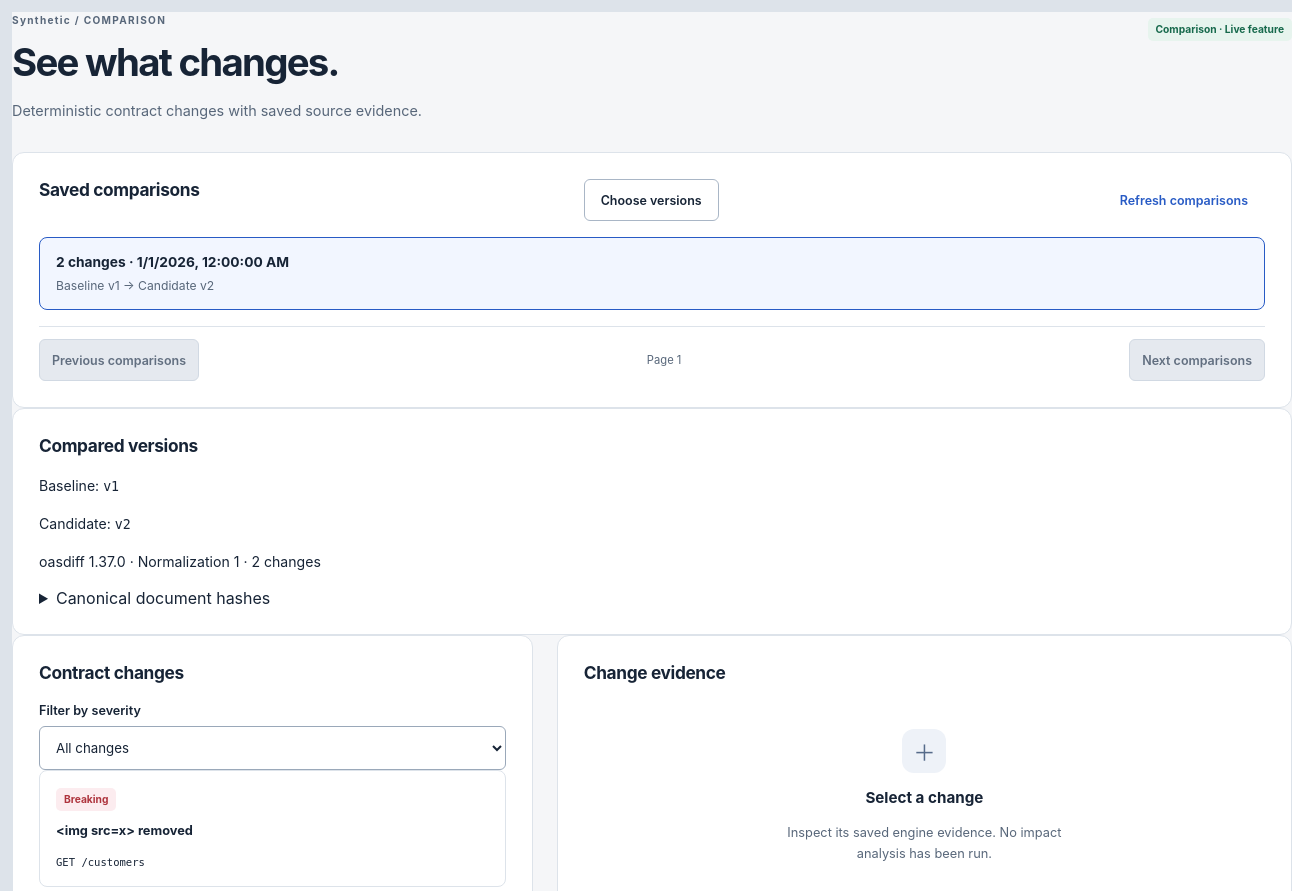
it: filters changes and fetches the selected stable ID with escaped evidence
This screenshot has width=1292, height=891.
Expected: the text "Baseline v1 → Candidate v2" is shown, [56,278,214,294]
Select "Breaking" in the dropdown labelled "Filter by severity" at (272, 748), box [39,726,506,770]
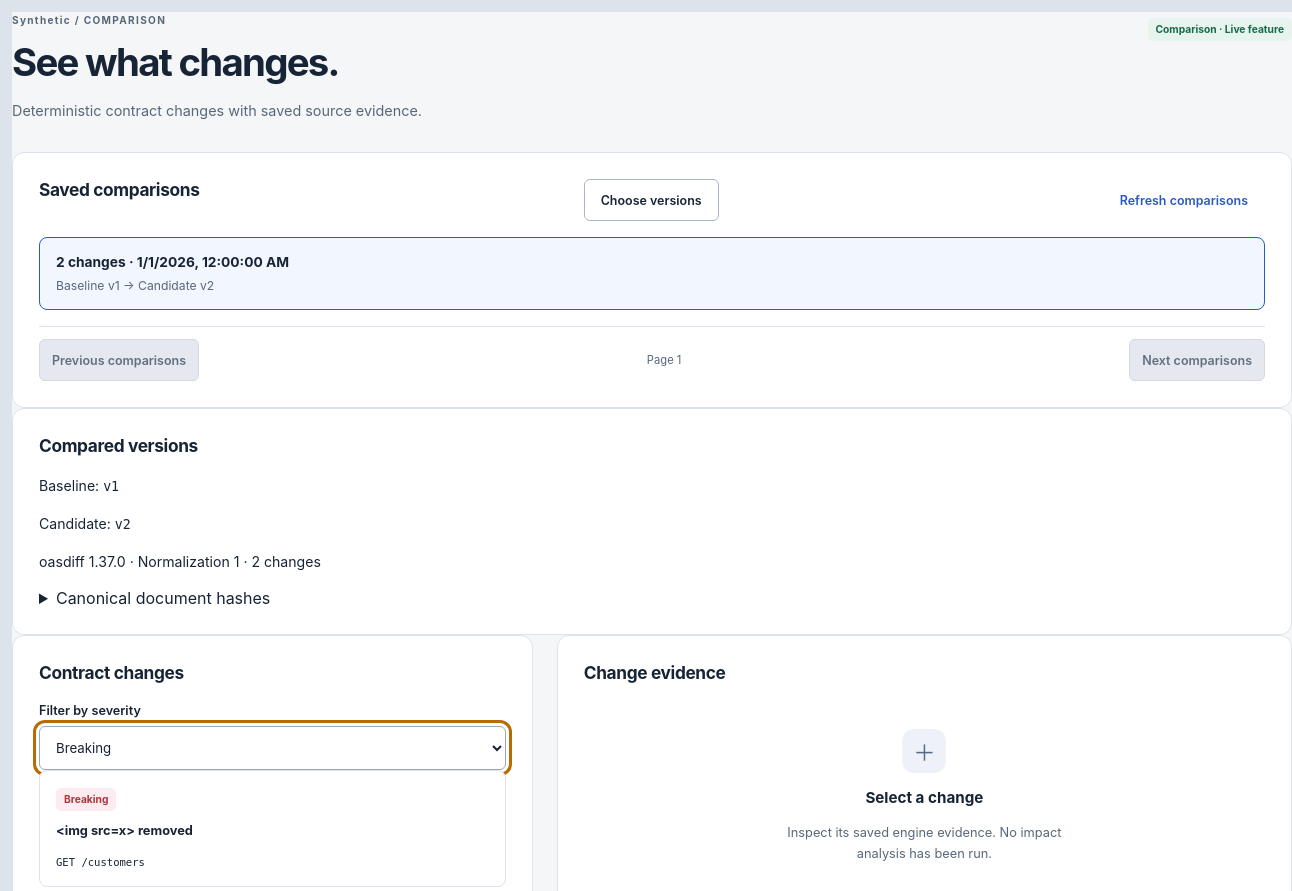
Click the button "Breaking <img src=x> removed GET /customers".
click(86, 799)  # box [39,770,506,887]
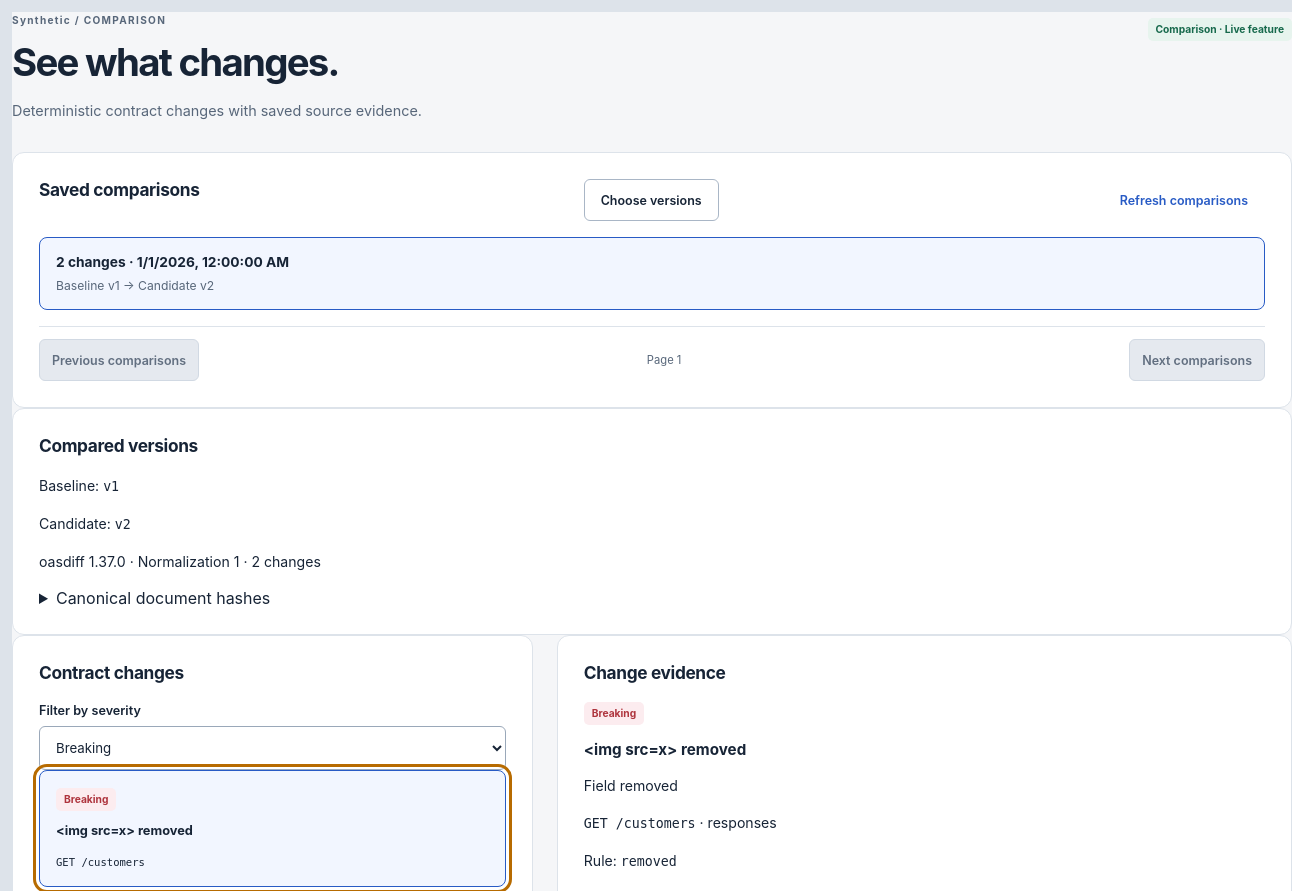
Select "Potentially breaking" in the dropdown labelled "Filter by severity" at (272, 748), box [39,726,506,770]
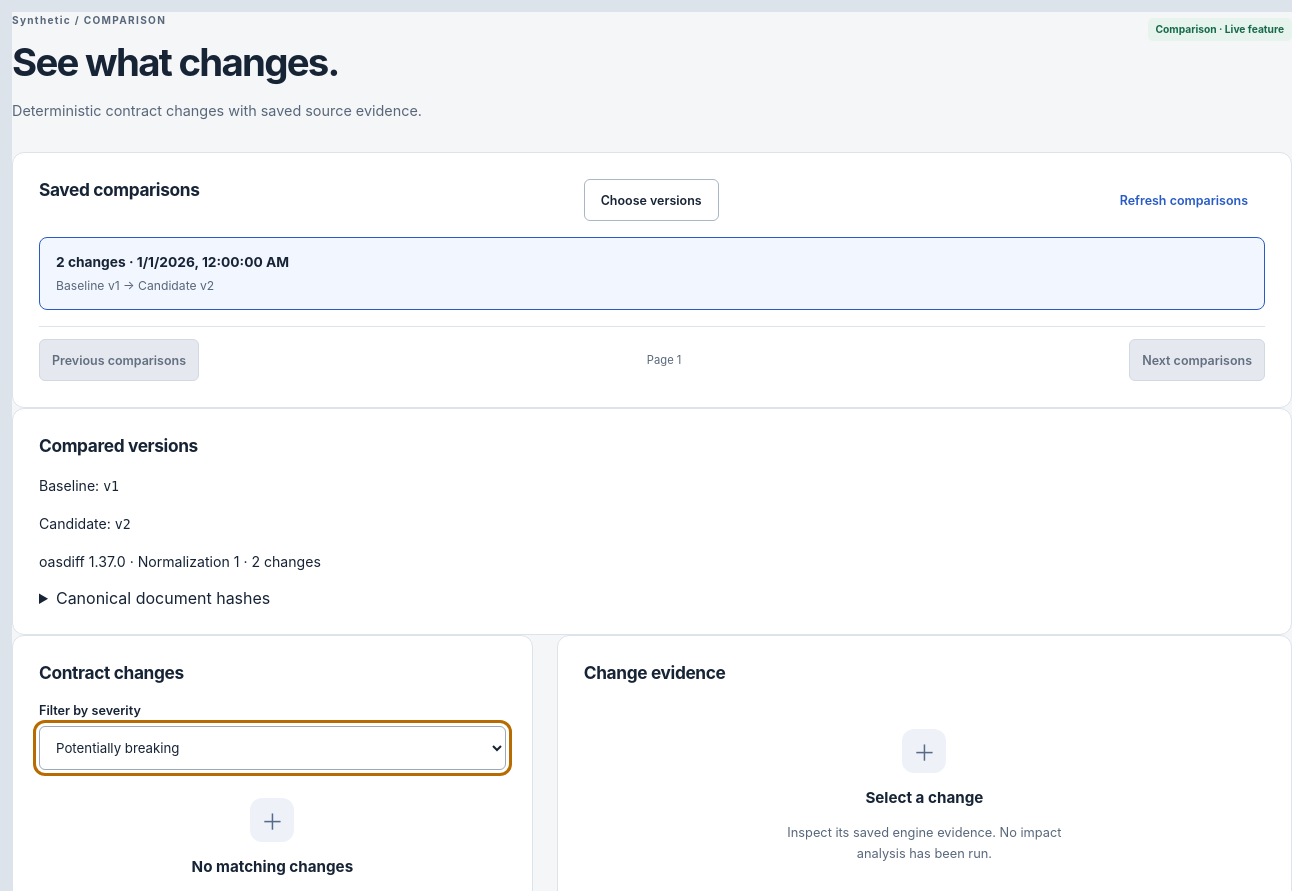
Now the heading "No matching changes" is shown, box [192,857,353,876]
Now the text "Field removed" is gone
